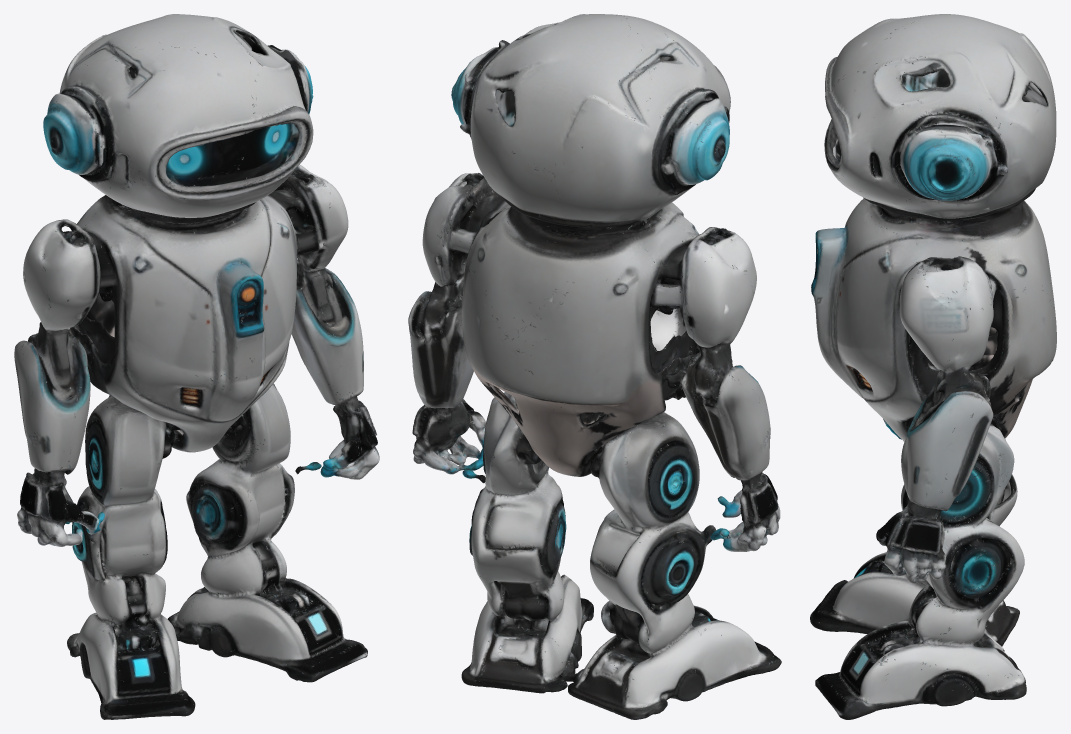
File: Robot3D.glb
The picture shows the model from 3 angles, left to right: view 1: azimuth 30°, elevation 25°; view 2: azimuth 150°, elevation 25°; view 3: azimuth 270°, elevation 25°; orthographic projection. The views are drawn at different scales.
Bounding box in the file's own units: 1.15 × 2 × 0.7155.
Materials: 1 (1 with a texture image).
